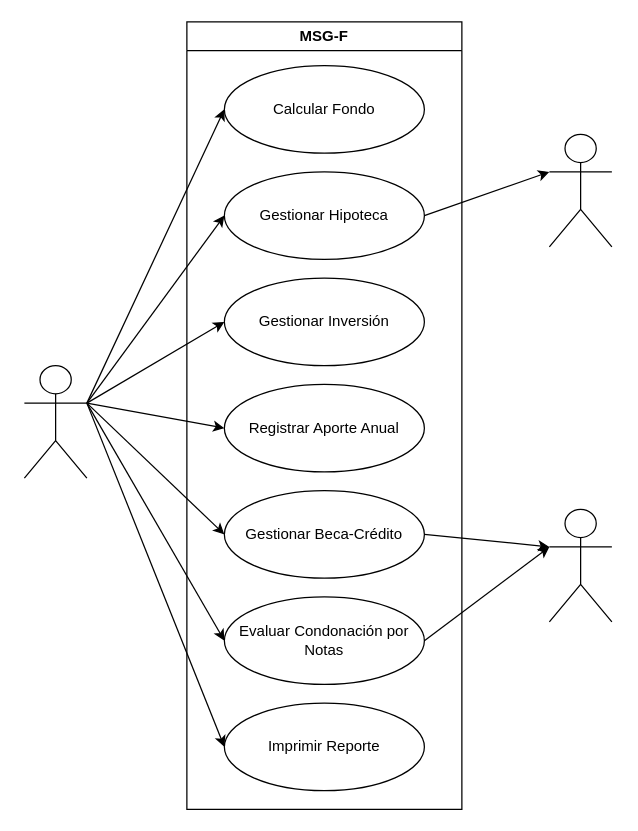
This 638x831 diagram has some shape labels left out. The centre of each missing label's shape, as x and y in pixels:
"Deudor (Pareja)" belongs at [580,190].
"Empleado MSG-F" belongs at [55,421].
"Estudiante" belongs at [580,565].
